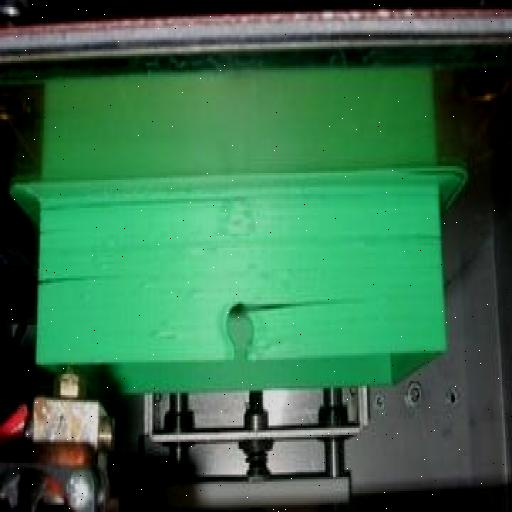cracks: (212, 274, 390, 332), (24, 262, 140, 300), (376, 213, 446, 257)
